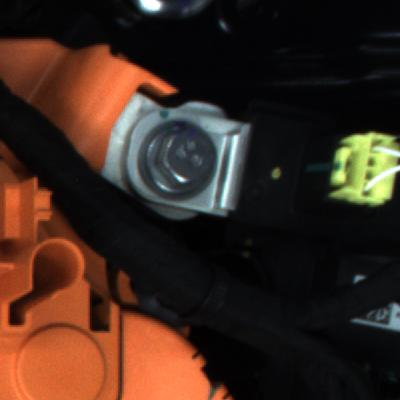nut_b: (136, 113, 224, 206)
